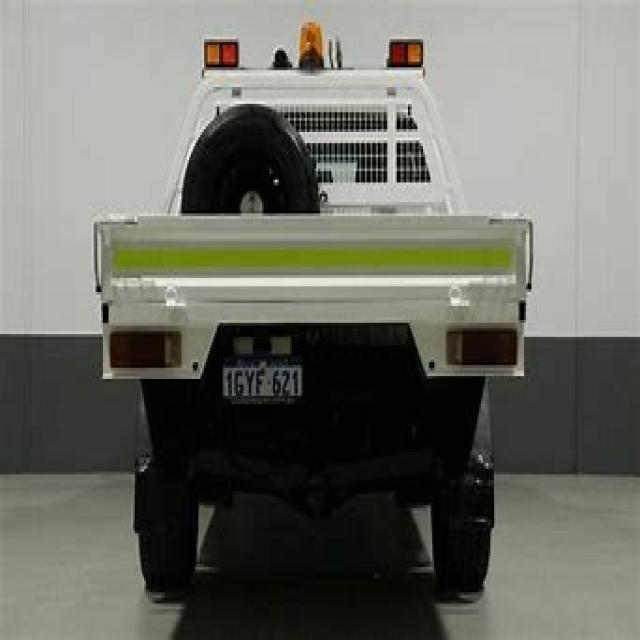light_vehicle: (84, 22, 535, 618)
